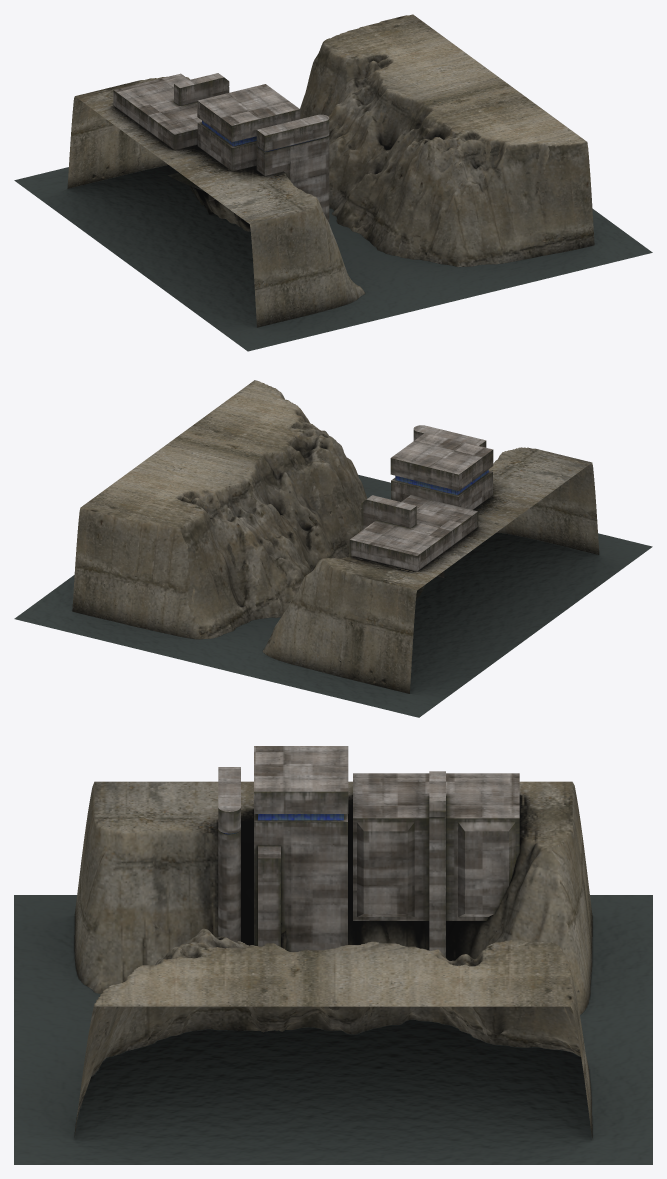
File: cliff.glb
3 views of the same model, one above another, from view 1: azimuth 30°, elevation 25°; view 2: azimuth 150°, elevation 25°; view 3: azimuth 270°, elevation 25° (orthographic). The views are drawn at different scales.
Parts seen in each view (by area): view 1: Plane, Plane.001; view 2: Plane, Plane.001; view 3: Plane, Plane.001.
Boxes of the visible parts, x1,y1,x2,y2 form: Plane: (67, 14, 594, 327); Plane.001: (14, 165, 652, 351); Plane: (72, 380, 599, 693); Plane.001: (14, 474, 652, 717); Plane: (74, 746, 592, 1138); Plane.001: (14, 895, 652, 1164).
Bounding box in the file's own units: 120 × 41.6 × 120.
4 materials, 4 textured.
